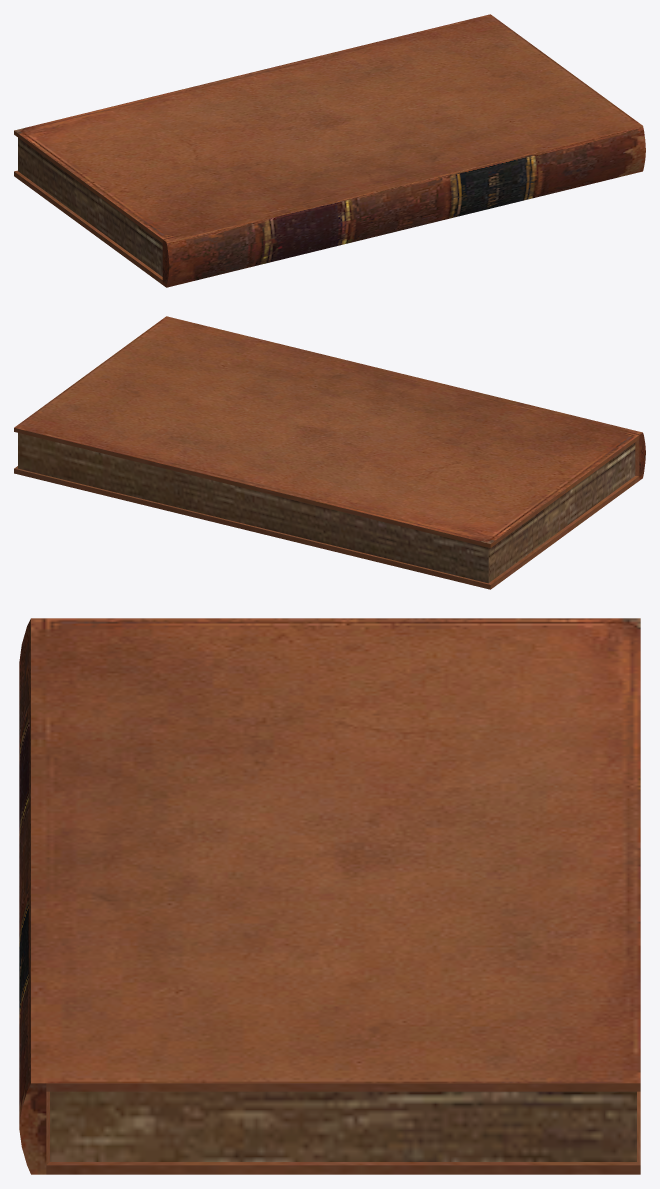
The model's file is Prop_Book_ClosedA.fbx.
The picture shows the model from 3 angles, top to bottom: view 1: azimuth 30°, elevation 25°; view 2: azimuth 150°, elevation 25°; view 3: azimuth 270°, elevation 25°; orthographic projection. The views are drawn at different scales.
Visible parts, largest first — view 1: Cube_037; view 2: Cube_037; view 3: Cube_037.
Part boxes in pixels (box(x1,y1,x2,y2)): Cube_037: box(14, 14, 645, 287); Cube_037: box(14, 316, 645, 589); Cube_037: box(19, 618, 640, 1174).
Bounding box in the file's own units: 1.3 × 0.1191 × 0.734.
